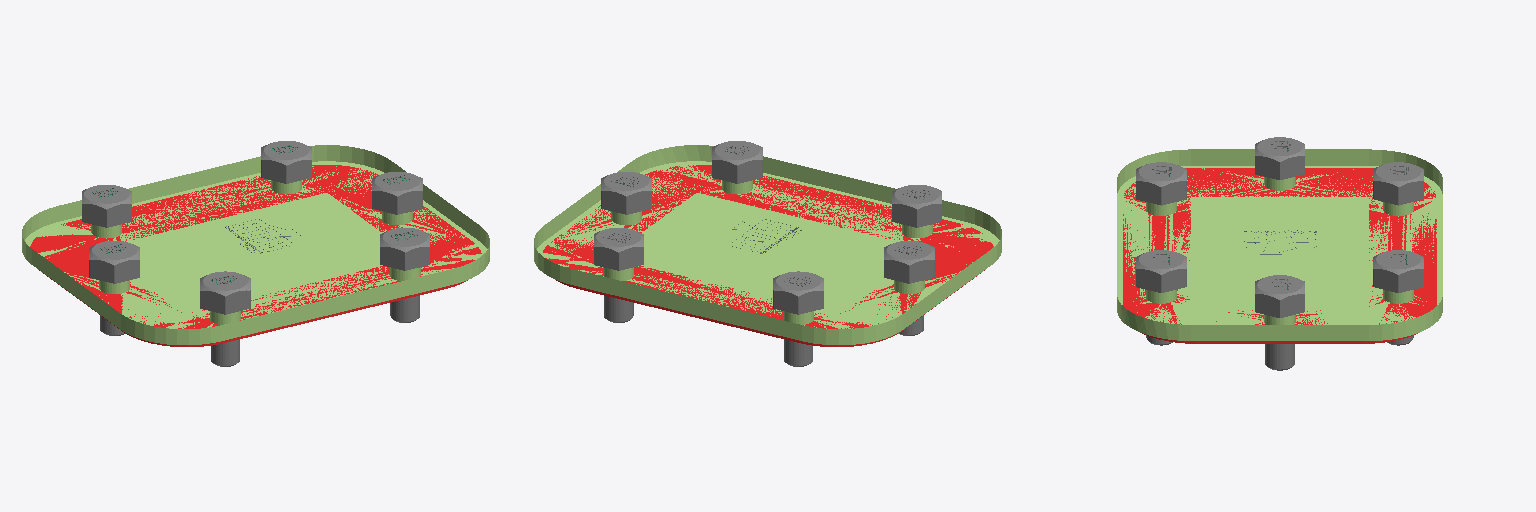
The picture shows the model from 3 angles: view 1: azimuth 30°, elevation 25°; view 2: azimuth 150°, elevation 25°; view 3: azimuth 270°, elevation 25°; orthographic projection.
Visible parts, largest first — view 1: 106-01-085/001_240530_Cover, 106-01-085/006_100466_Screw, 106-01-085/003_240531_Gasket; view 2: 106-01-085/001_240530_Cover, 106-01-085/006_100466_Screw, 106-01-085/003_240531_Gasket; view 3: 106-01-085/001_240530_Cover, 106-01-085/006_100466_Screw, 106-01-085/003_240531_Gasket.
Boxes of the visible parts, <box> form: 106-01-085/001_240530_Cover: <box>22,145,489,344</box>; 106-01-085/006_100466_Screw: <box>82,141,429,366</box>; 106-01-085/003_240531_Gasket: <box>30,165,481,346</box>; 106-01-085/001_240530_Cover: <box>534,145,1001,344</box>; 106-01-085/006_100466_Screw: <box>594,141,941,366</box>; 106-01-085/003_240531_Gasket: <box>543,165,993,346</box>; 106-01-085/001_240530_Cover: <box>1117,149,1442,340</box>; 106-01-085/006_100466_Screw: <box>1136,137,1423,370</box>; 106-01-085/003_240531_Gasket: <box>1123,168,1436,343</box>.
Size of the model in its own units: 140 by 30 by 110.